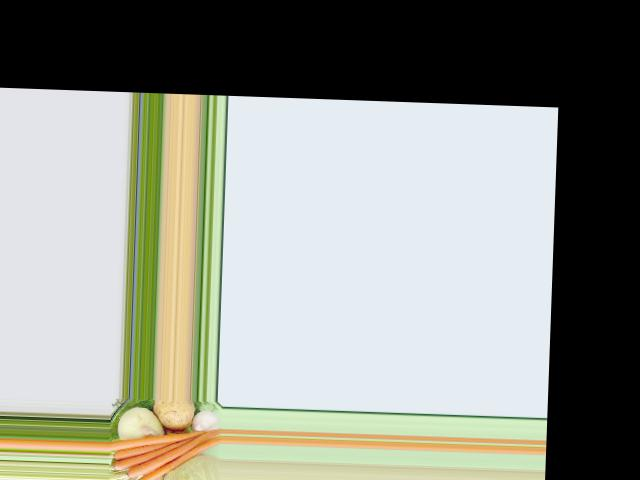carrot: (109, 424, 217, 455)
